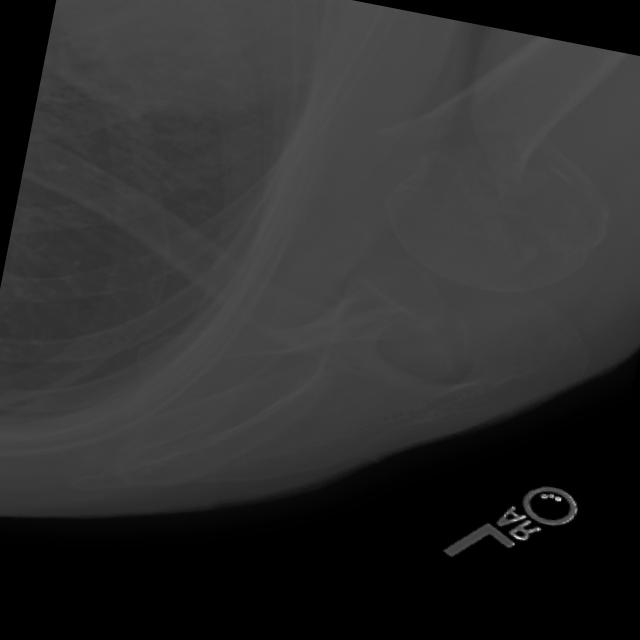shoulder fracture: (438, 86, 629, 248)
